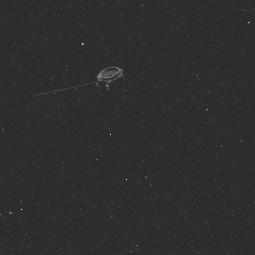earth_observation_sat_1: (26, 61, 135, 122)
